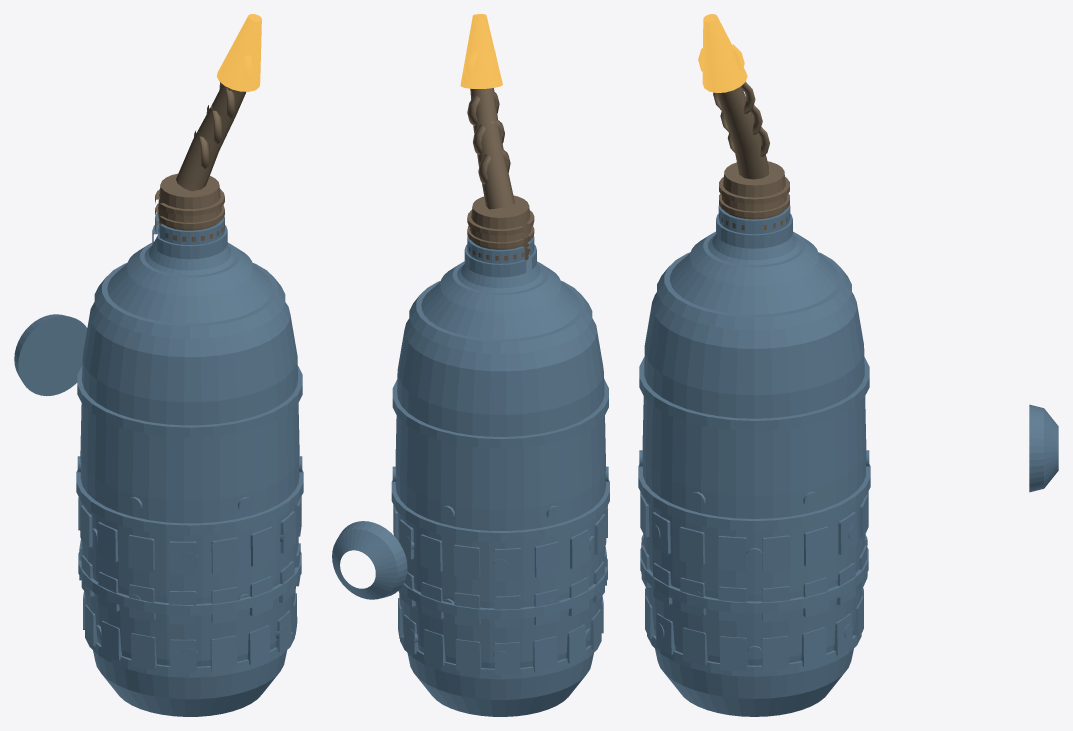
The model's file is equipment_molotov.glb.
3 views of the same model, side by side, from view 1: azimuth 30°, elevation 25°; view 2: azimuth 150°, elevation 25°; view 3: azimuth 270°, elevation 25° (orthographic). The views are drawn at different scales.
Visible parts, largest first — view 1: equipment_molotov__equipment_molotov, equipment_molotov__wick, equipment_molotov__flame; view 2: equipment_molotov__equipment_molotov, equipment_molotov__wick, equipment_molotov__flame; view 3: equipment_molotov__equipment_molotov, equipment_molotov__wick, equipment_molotov__flame.
Boxes of the visible parts, box(x1,y1,x2,y2) form: equipment_molotov__equipment_molotov: box(14, 212, 303, 716); equipment_molotov__wick: box(155, 82, 246, 241); equipment_molotov__flame: box(217, 14, 261, 91); equipment_molotov__equipment_molotov: box(332, 236, 609, 716); equipment_molotov__wick: box(467, 88, 534, 260); equipment_molotov__flame: box(460, 14, 502, 88); equipment_molotov__equipment_molotov: box(638, 205, 1058, 716); equipment_molotov__wick: box(713, 81, 789, 230); equipment_molotov__flame: box(698, 14, 747, 92).
Bounding box in the file's own units: 0.1275 × 0.423 × 0.2294.
